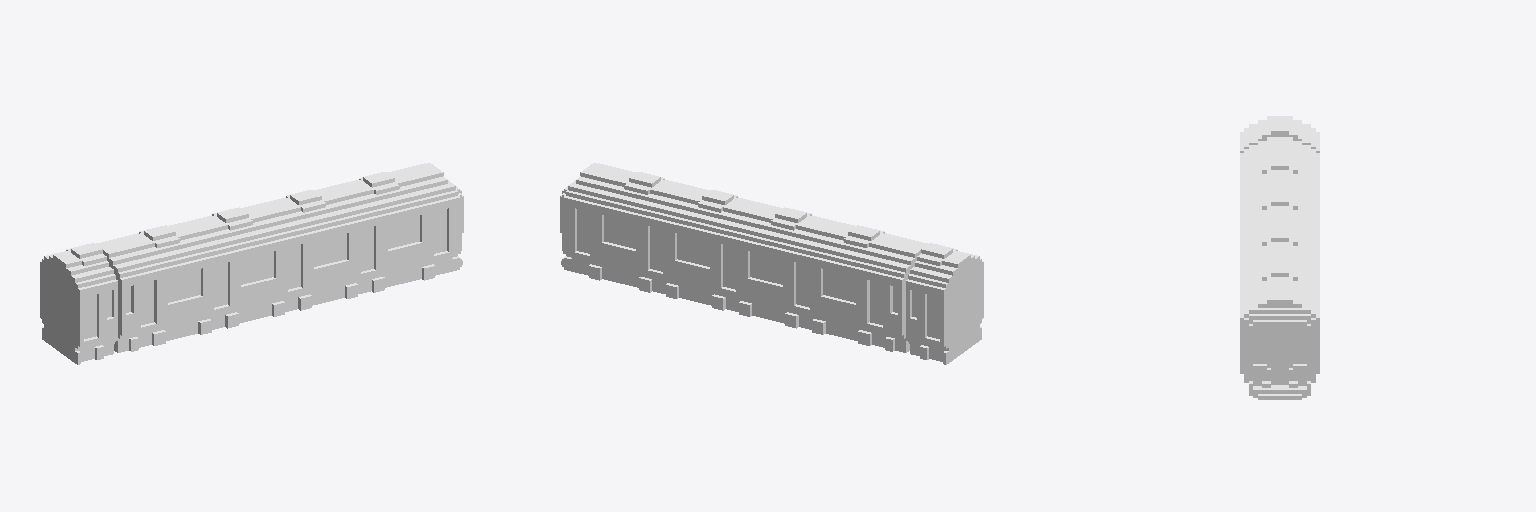
File: GDS2_TrainAccesories-3.obj
3 views of the same model, side by side, from view 1: azimuth 30°, elevation 25°; view 2: azimuth 150°, elevation 25°; view 3: azimuth 270°, elevation 25° (orthographic).
Parts seen in each view (by area): view 1: GDS2_TrainAccesories-3; view 2: GDS2_TrainAccesories-3; view 3: GDS2_TrainAccesories-3.
Boxes of the visible parts, x1,y1,x2,y2 form: GDS2_TrainAccesories-3: [40, 163, 463, 364]; GDS2_TrainAccesories-3: [560, 163, 983, 364]; GDS2_TrainAccesories-3: [1240, 116, 1319, 399].
Bounding box in the file's own units: 10.2 × 2.4 × 1.8.